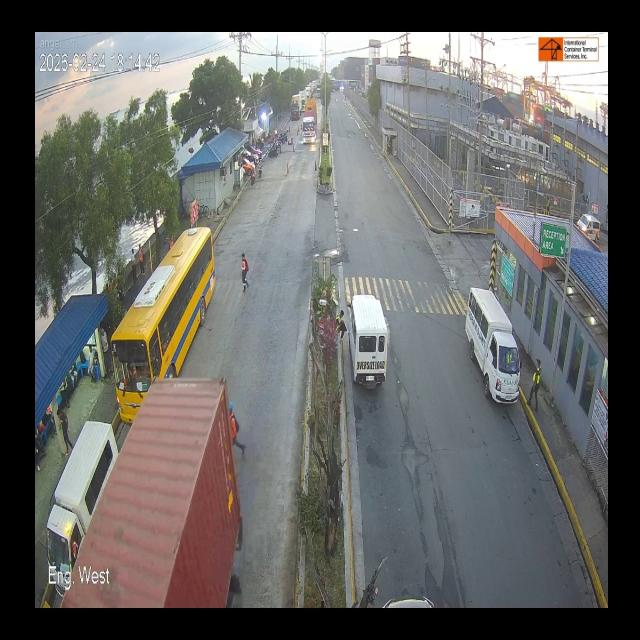bus: (112, 224, 222, 424)
car: (50, 421, 116, 583), (461, 282, 526, 412), (349, 292, 388, 402)
truck: (68, 382, 252, 612), (302, 101, 318, 143)
